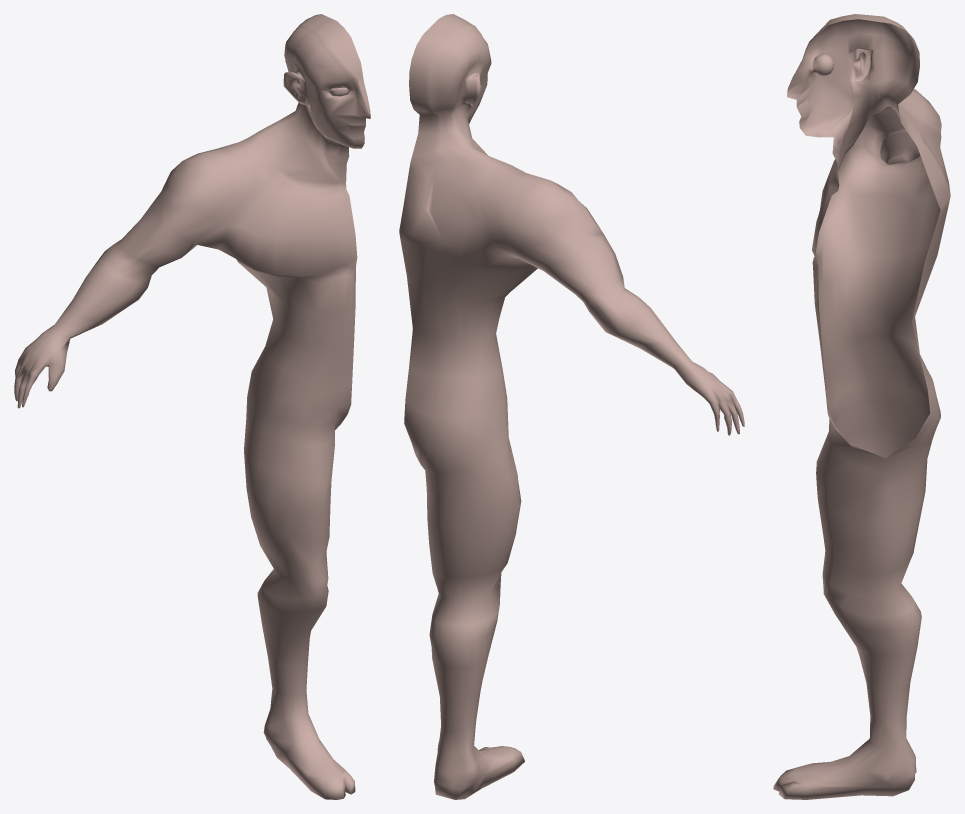
File: humanbody1.5.glb
3 views of the same model, side by side, from view 1: azimuth 30°, elevation 25°; view 2: azimuth 150°, elevation 25°; view 3: azimuth 270°, elevation 25° (orthographic). The views are drawn at different scales.
Visible parts, largest first — view 1: Roundcube.001; view 2: Roundcube.001; view 3: Roundcube.001.
Boxes of the visible parts, x1,y1,x2,y2 form: Roundcube.001: (14,14,370,799); Roundcube.001: (399,14,744,799); Roundcube.001: (773,14,950,799).
Bounding box in the file's own units: 4.85 × 11.2 × 2.28.
1 material, 1 textured.
